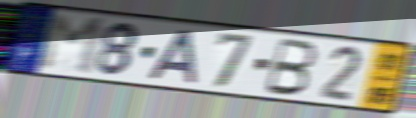2: (318, 44, 363, 104)
7: (211, 30, 258, 91)
8: (95, 21, 140, 78)
A: (144, 27, 198, 86)
B: (261, 36, 319, 98)
M: (36, 13, 107, 77)
